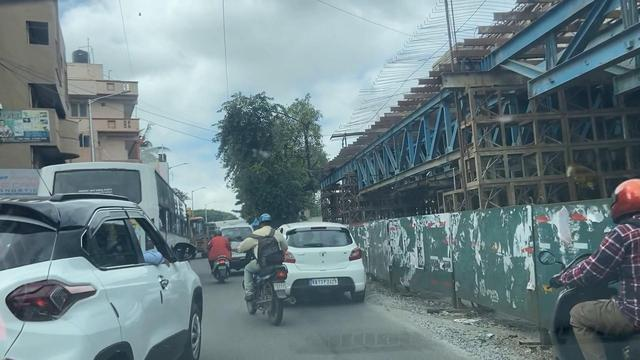LMV: (291, 223, 365, 310), (251, 209, 287, 328), (207, 229, 234, 281)
